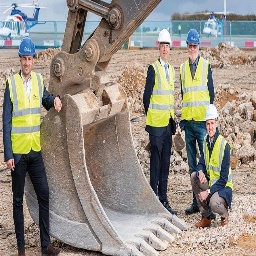helmet: (15, 33, 37, 65), (186, 28, 203, 51), (157, 27, 171, 49), (205, 103, 217, 124)
person: (4, 33, 54, 253), (181, 26, 215, 215), (148, 26, 177, 224), (201, 105, 235, 230)
vest: (180, 57, 217, 182), (8, 71, 50, 164), (149, 55, 177, 135), (202, 136, 232, 201)
